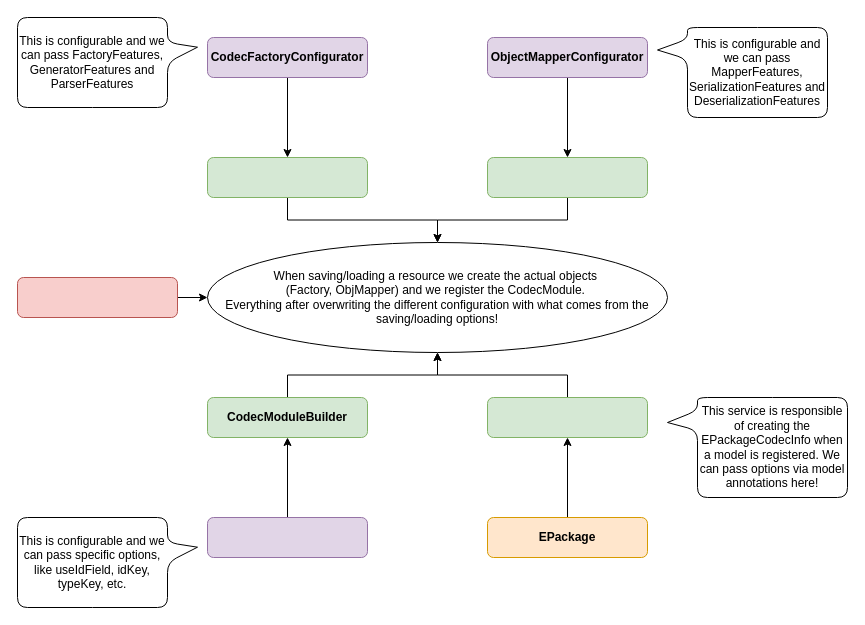
Image size: 865x625. Some labels were removed from this diagram. The shapes that lost their labels are listed below. From the top down, each one's box as (x1, y1, x2, y2) in pixels, then its label:
(206, 156, 368, 198): CodecFactoryBuilder
(486, 156, 648, 198): ObjectMapperBuilder
(16, 276, 178, 318): Resource#save(options) Resource#load(options)
(486, 396, 648, 438): CodecModelInfo
(206, 516, 368, 558): CodecModuleConfigurator
